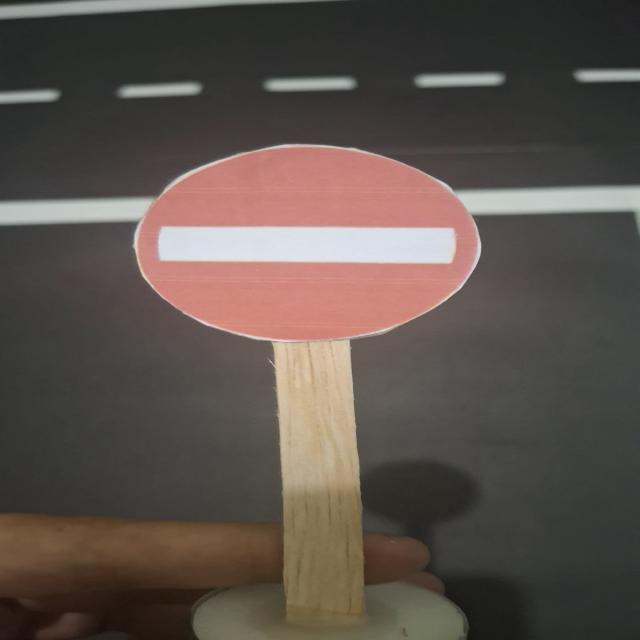Dilarang Masuk: (135, 145, 480, 343)
